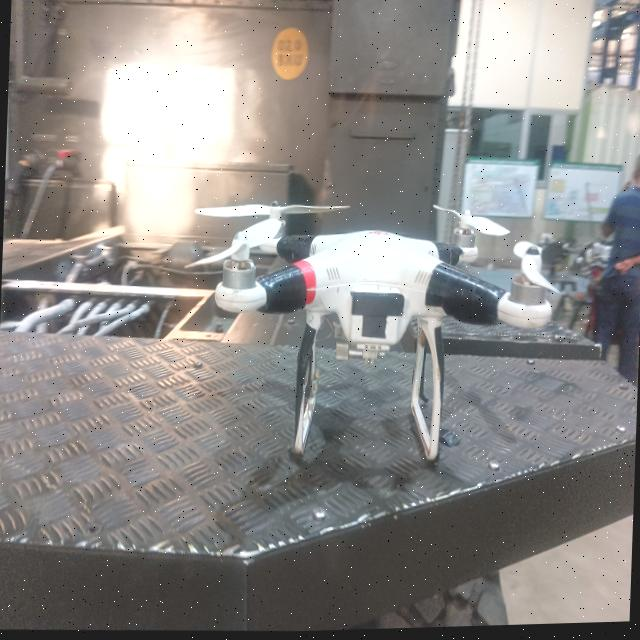drone: (162, 151, 579, 492)
